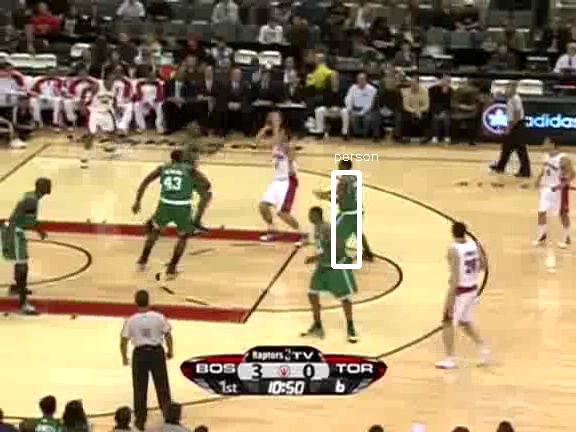person: (333, 168, 367, 249), (332, 168, 366, 249), (334, 168, 368, 249), (333, 167, 367, 248), (333, 169, 367, 250)
target_negative: (558, 16, 573, 314), (363, 384, 551, 401), (473, 360, 559, 388), (375, 314, 575, 322), (379, 225, 394, 316), (183, 79, 187, 376)
